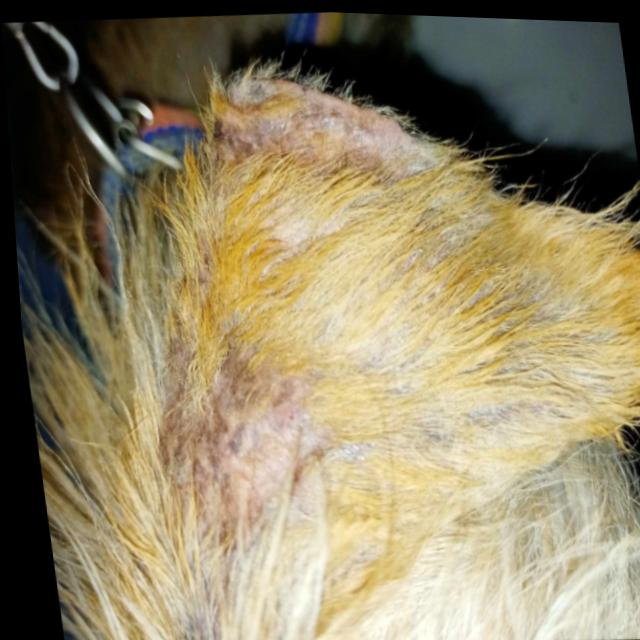demodicosis: (145, 287, 326, 541), (210, 61, 382, 183)
